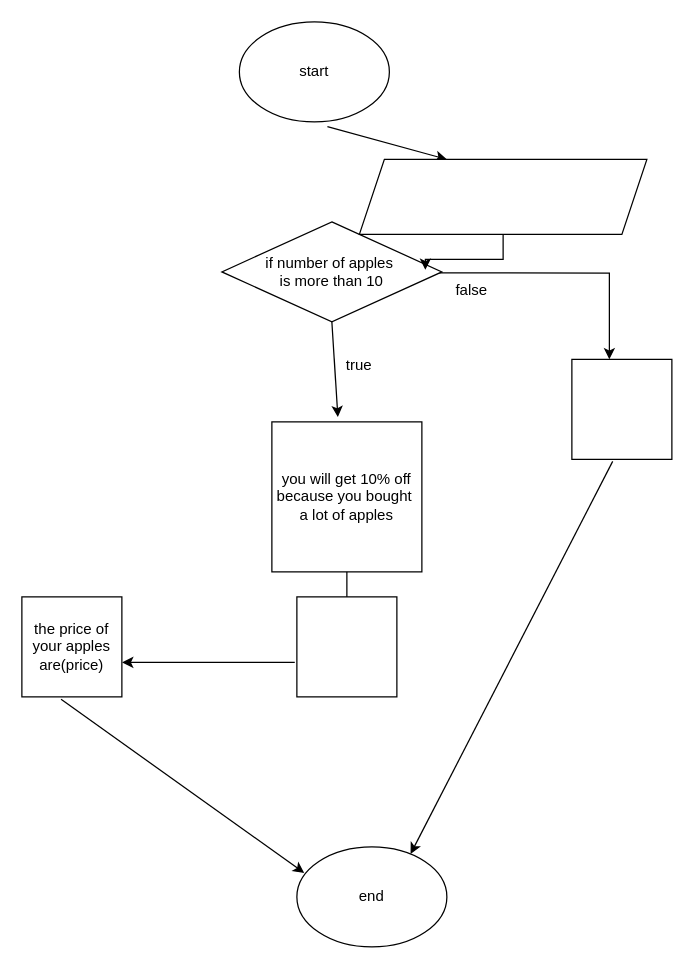
Some shapes in this 694 by 969 pixel diagram are drawn without their labels. Each missing label, with the centre of its shape:
"how many apples do you want to buy" goes at (x=502, y=196).
"price = apples * 1*0.9" goes at (x=346, y=646).
"price = apples *1" goes at (x=621, y=408).
